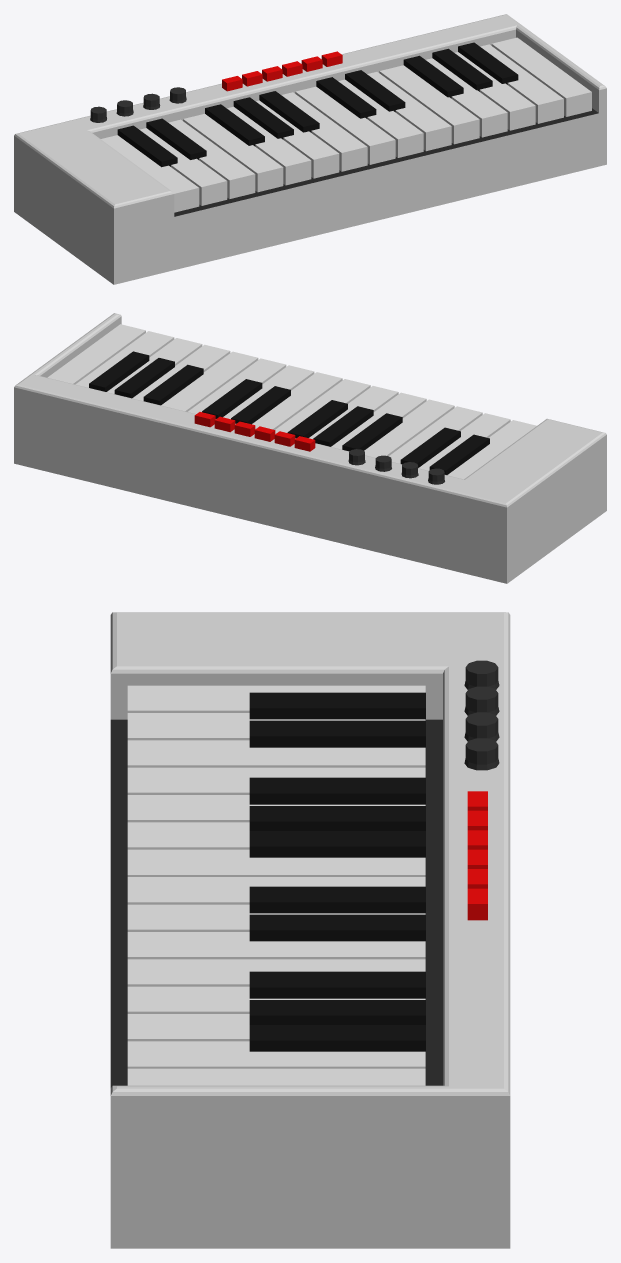
Rendered from Midi Keyboard17.fbx.
3 renders of one model, top to bottom at view 1: azimuth 30°, elevation 25°; view 2: azimuth 150°, elevation 25°; view 3: azimuth 270°, elevation 25°, orthographic. The views are drawn at different scales.
Parts seen in each view (by area): view 1: 49keysmidi.018; view 2: 49keysmidi.018; view 3: 49keysmidi.018.
Boxes of the visible parts, x1,y1,x2,y2 form: 49keysmidi.018: [14, 14, 606, 284]; 49keysmidi.018: [14, 313, 606, 583]; 49keysmidi.018: [110, 612, 510, 1248].
Size of the model in its own units: 40.84 by 6.96 by 14.33.
